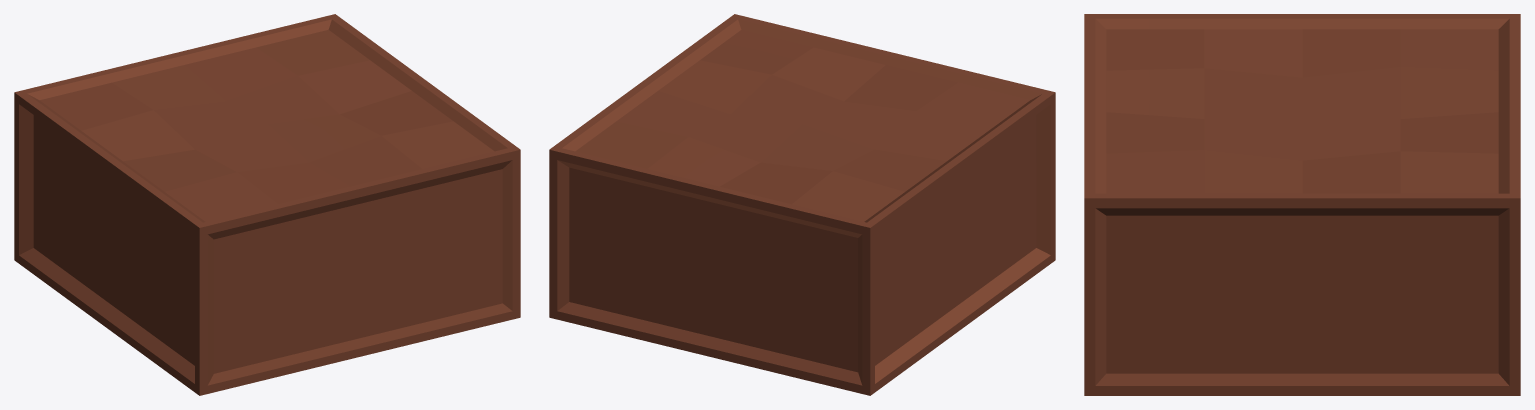
File: Casilla.FBX
3 renders of one model, left to right at view 1: azimuth 30°, elevation 25°; view 2: azimuth 150°, elevation 25°; view 3: azimuth 270°, elevation 25°, orthographic. The views are drawn at different scales.
Parts seen in each view (by area): view 1: Casilla; view 2: Casilla; view 3: Casilla.
Boxes of the visible parts, x1,y1,x2,y2 form: Casilla: (14, 14, 520, 395); Casilla: (549, 14, 1055, 395); Casilla: (1084, 14, 1520, 395).
Size of the model in its own units: 39.37 by 19.69 by 39.37.
